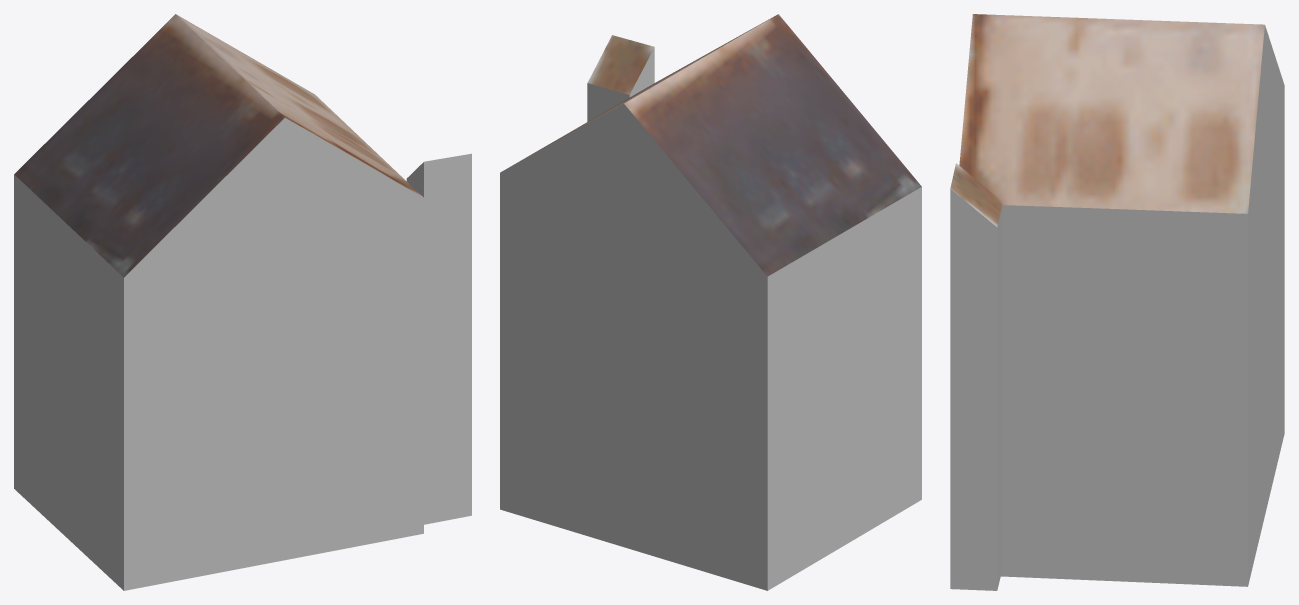
Rendered from DEBW_0010007TxgM.gltf.
The picture shows the model from 3 angles, left to right: view 1: azimuth 30°, elevation 25°; view 2: azimuth 150°, elevation 25°; view 3: azimuth 270°, elevation 25°; orthographic projection. The views are drawn at different scales.
Visible parts, largest first — view 1: Z_UP; view 2: Z_UP; view 3: Z_UP.
Boxes of the visible parts, x1=… form: Z_UP: x1=14, y1=14, x2=471, y2=590; Z_UP: x1=500, y1=14, x2=921, y2=590; Z_UP: x1=950, y1=14, x2=1284, y2=590.
Size of the model in its own units: 15.19 by 19.39 by 11.96.
2 materials, 1 textured.
